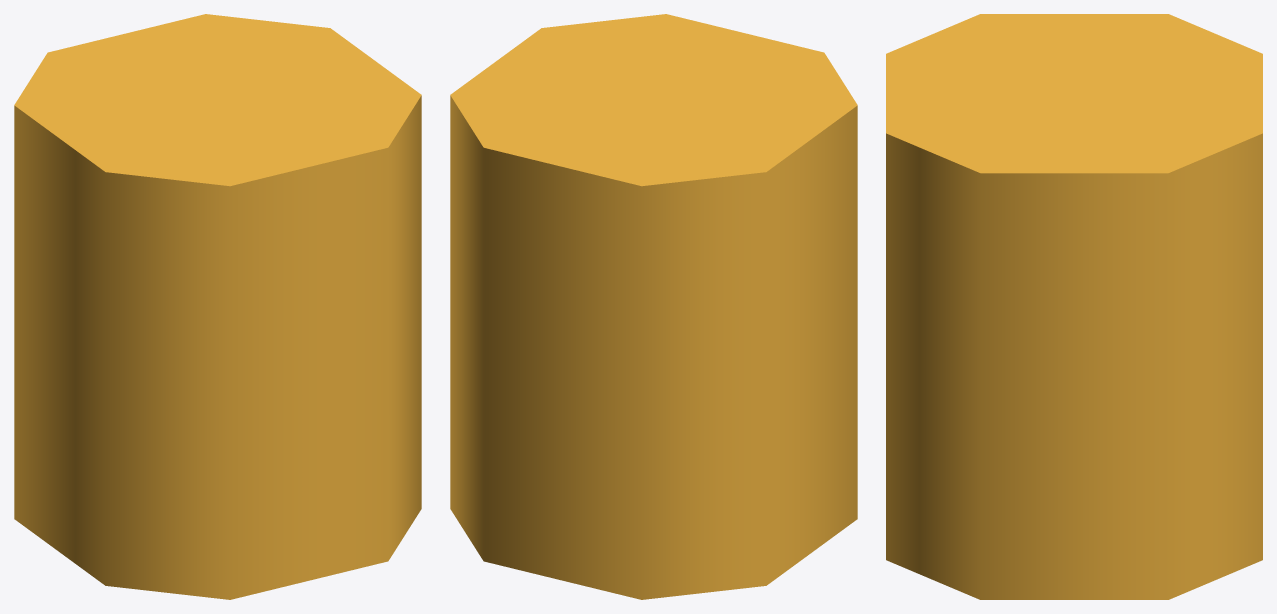
The model's file is support-color-single-middle.glb.
The picture shows the model from 3 angles, left to right: view 1: azimuth 30°, elevation 25°; view 2: azimuth 150°, elevation 25°; view 3: azimuth 270°, elevation 25°; orthographic projection. The views are drawn at different scales.
Parts seen in each view (by area): view 1: support-color-single-middle; view 2: support-color-single-middle; view 3: support-color-single-middle.
Part boxes in pixels (x1=…): support-color-single-middle: x1=14, y1=14, x2=421, y2=599; support-color-single-middle: x1=450, y1=14, x2=857, y2=599; support-color-single-middle: x1=886, y1=14, x2=1262, y2=599.
Size of the model in its own units: 0.4 by 0.5 by 0.4.
Materials: 1 (1 with a texture image).
